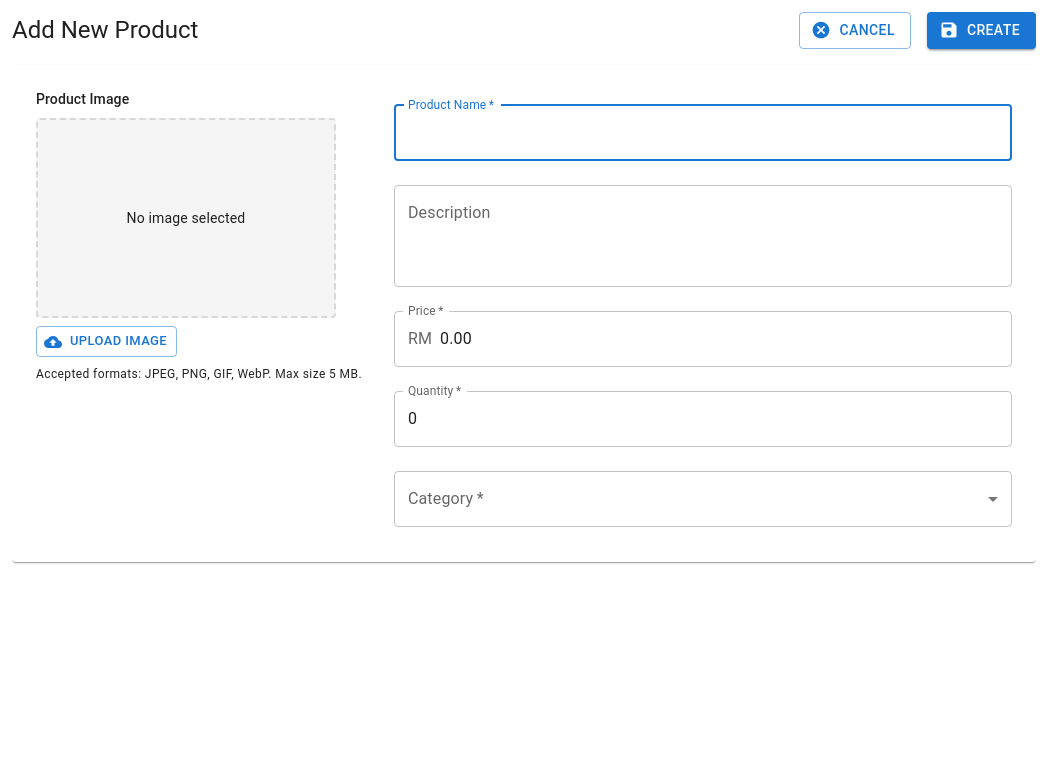
ProductFormPage (Create Mode) › shows validation error when submitting with empty product name
Step 1. Click the button "Create" → (981, 30), box [927, 12, 1036, 48]
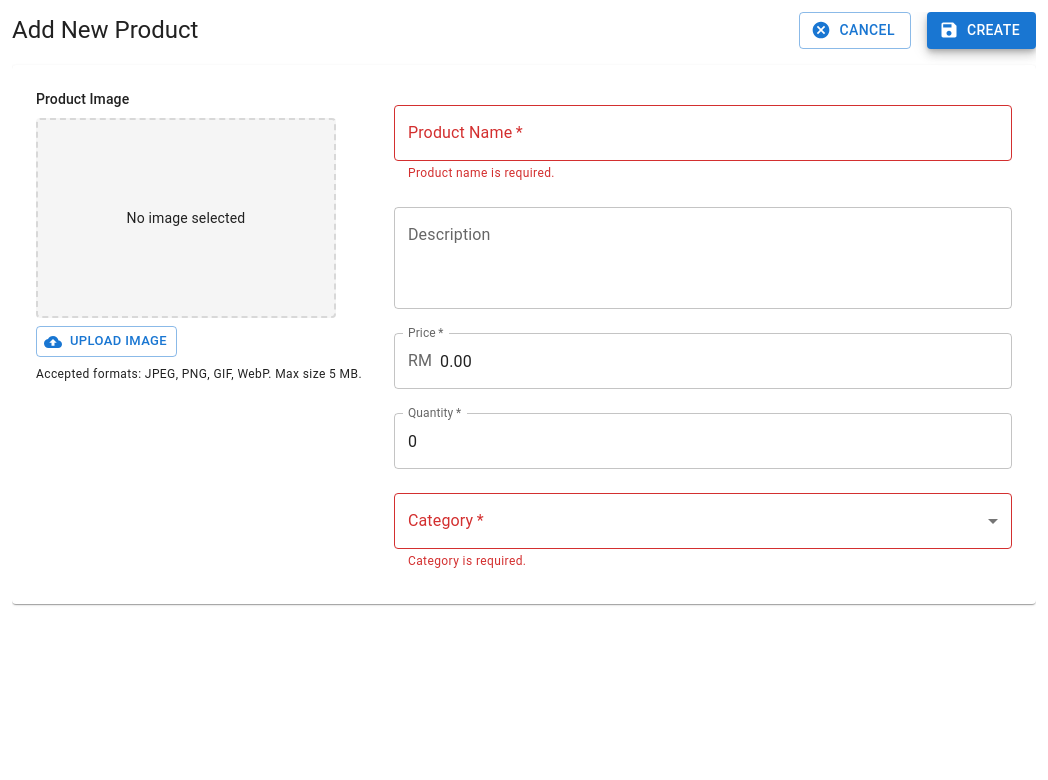
Now the text "Product name is required." is shown, box [408, 166, 555, 180]
